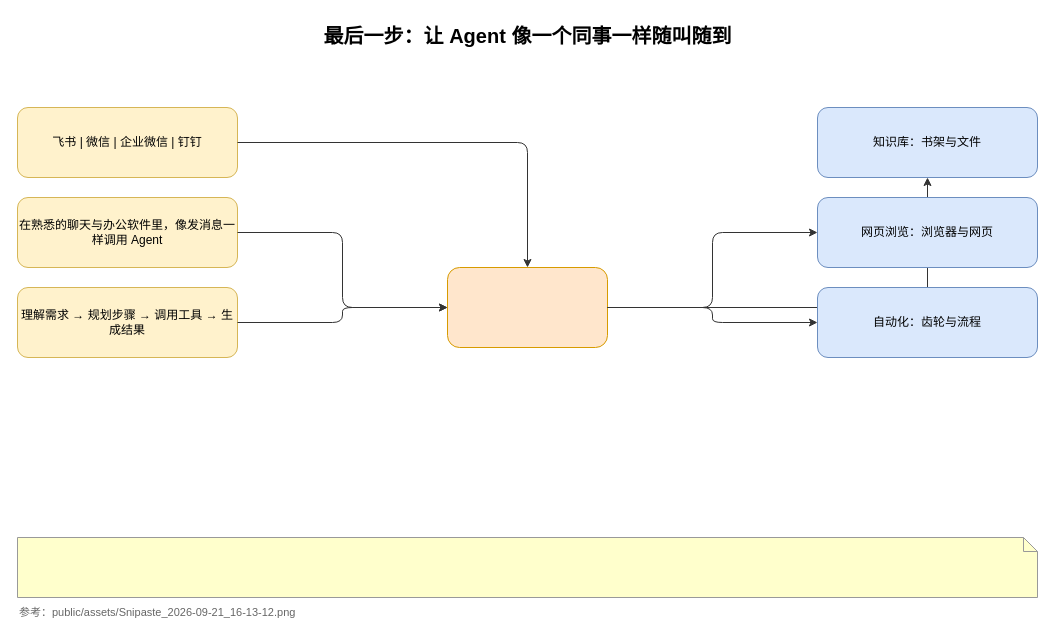
Some shapes in this 1055 by 638 pixel diagram are drawn without their labels. The centre of each missing label's shape, as x and y in pixels:
IM 入口 + Agent + 自动化: point 527,307
Token 是模型处理文本的基本单位与常见计费尺子；实际成本由模型单价、输入输出 Token、调用频率和工具执行共同决定: point 527,567
